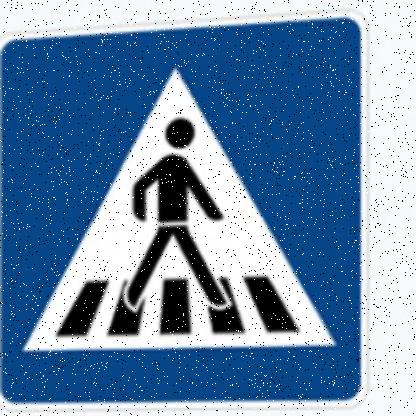Pedestrian Crossing: (1, 9, 370, 414)
